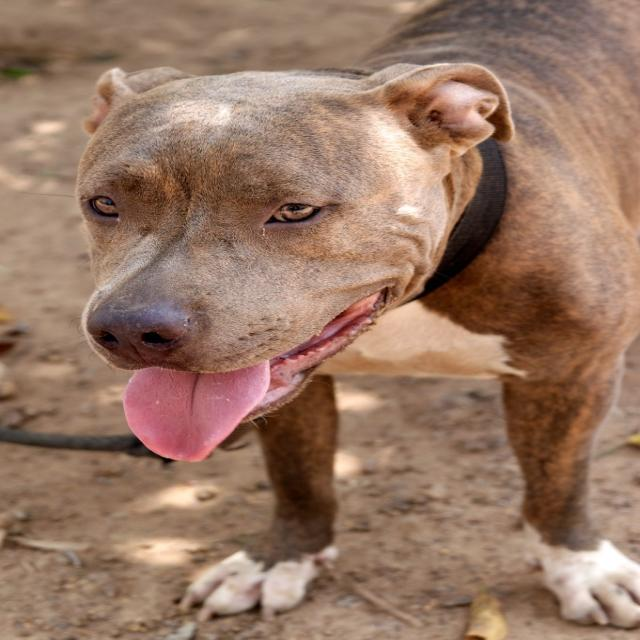dog: (44, 45, 540, 474)
